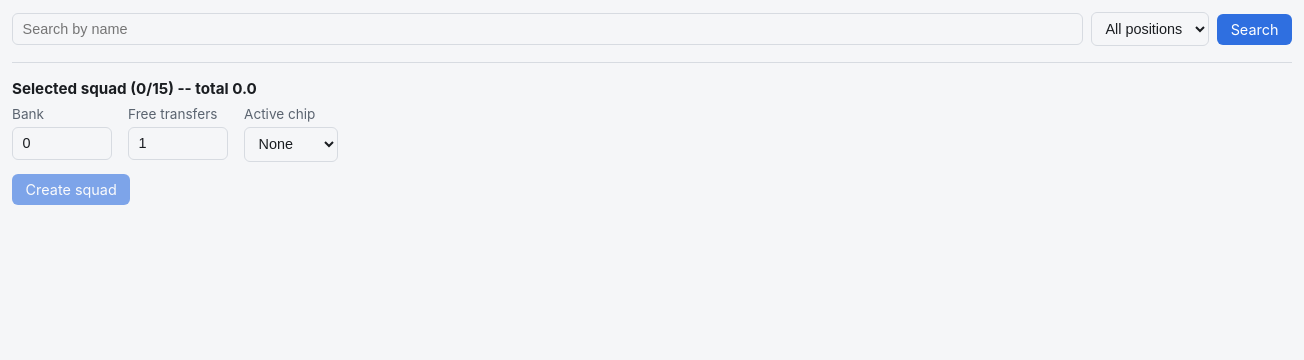
Test case: ManualSquadForm › adds a searched player to the selection and sums cost correctly
Step 1. Click the button "Search" → click(1254, 29), box x1=1217 y1=14 x2=1292 y2=45
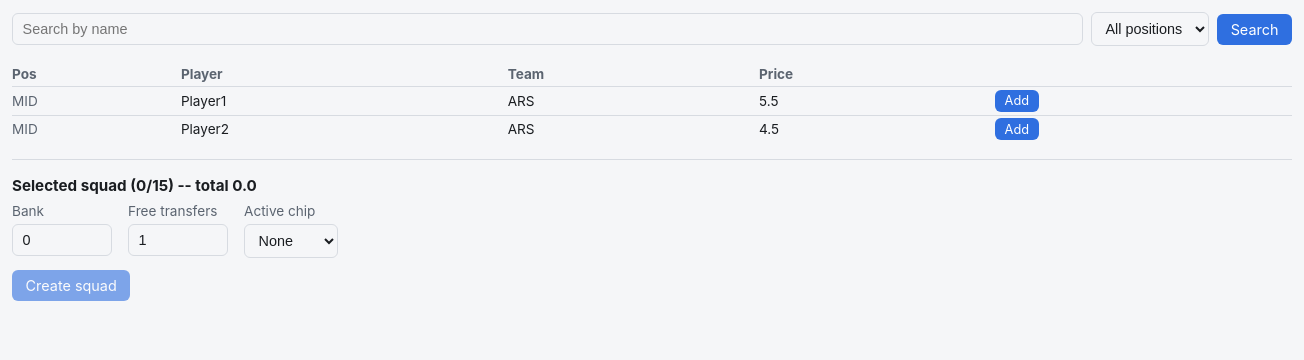
Result: the number of buttons "Add" is 2
Step 2. Click the button "Add" in the row of "Player1" → click(1017, 101), box x1=995 y1=90 x2=1039 y2=112
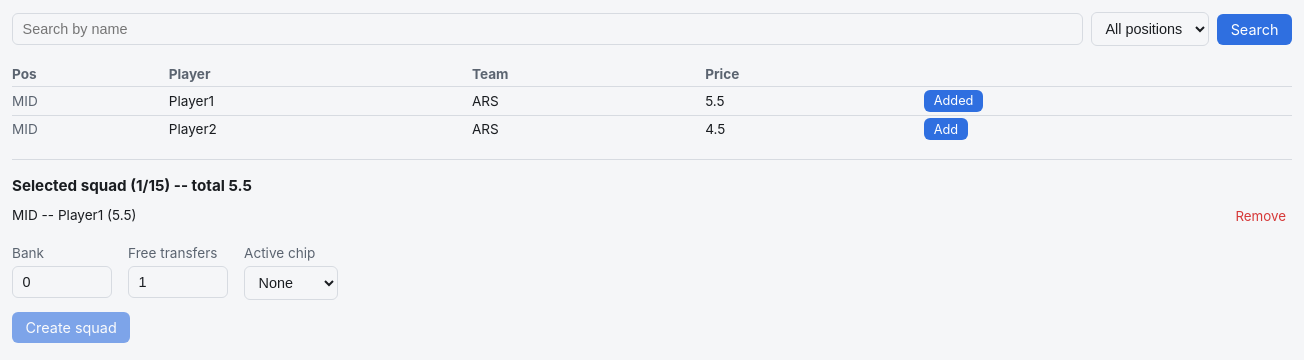
Result: the heading "Selected squad (1/15) -- total 5.5" is shown at x1=12 y1=176 x2=252 y2=195
